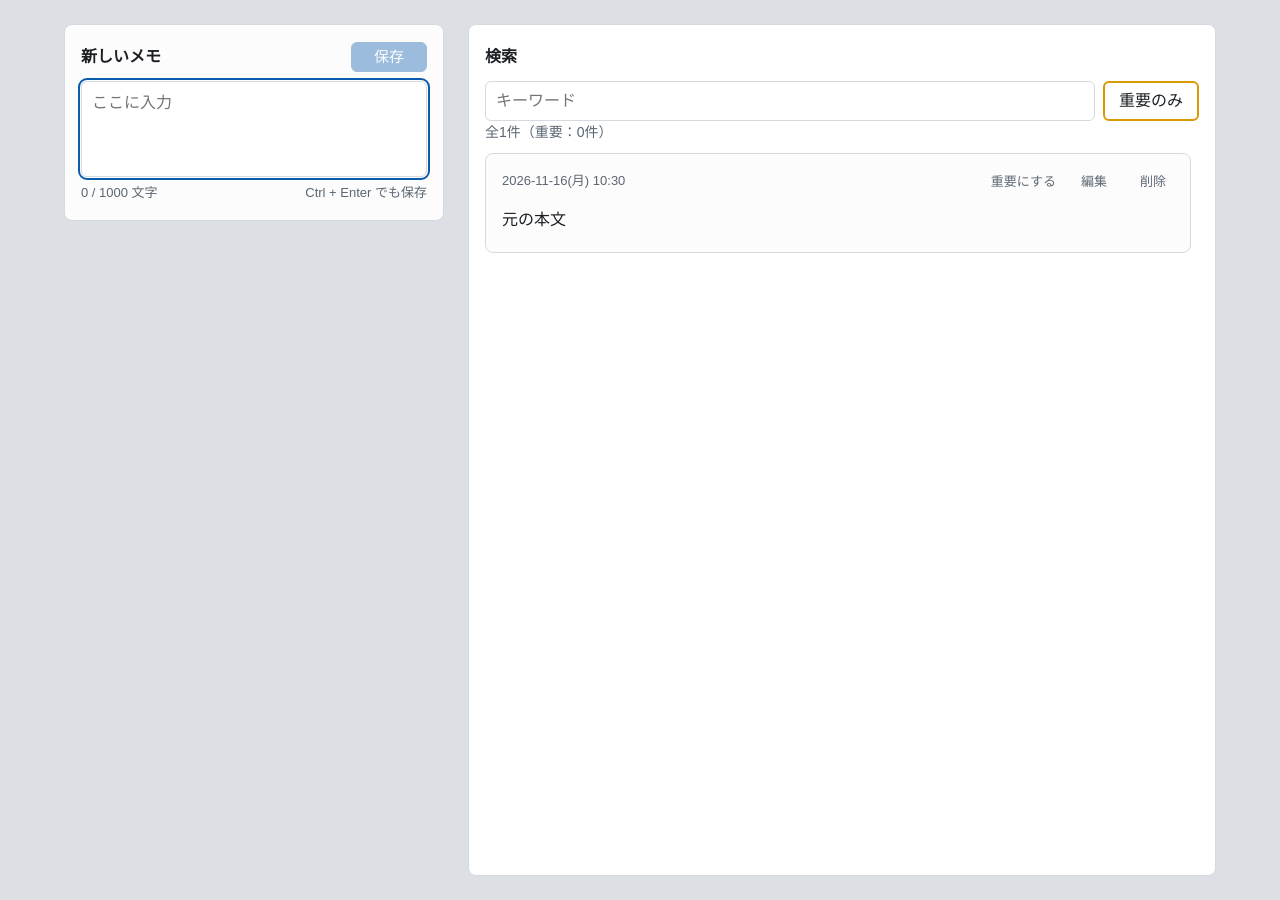
Test case: 編集（F4） › 保存に失敗したら、メッセージを出し、直していた文章は残して編集を続けられる
Expected: the text "元の本文" is shown, [502,211,566,228]
Step 1. Click the button "編集" → (1094, 182), box [1070,169,1118,195]
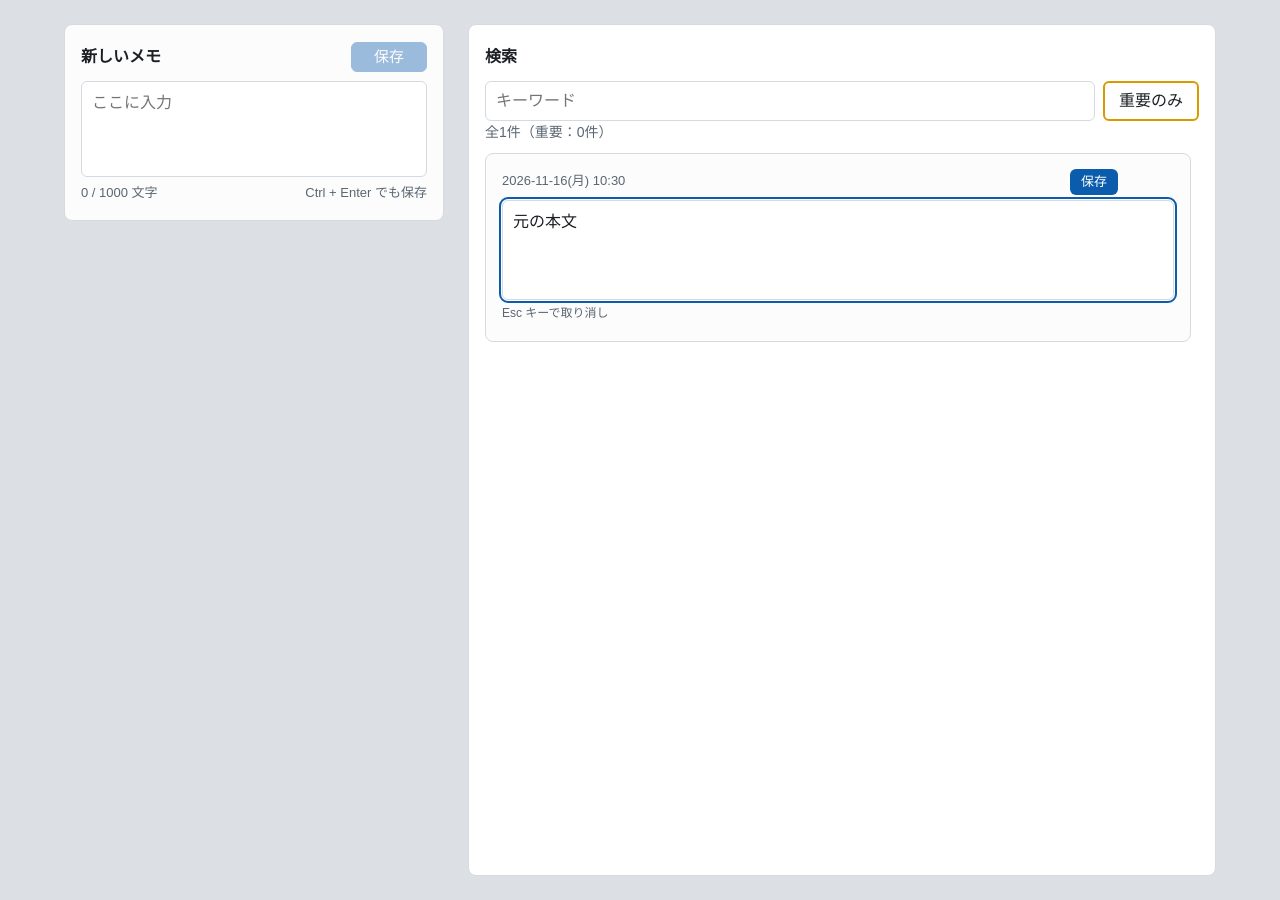
Step 2. Type "（直した）" into the text box named "メモの本文を編集" → (838, 250), box [502,200,1174,300]
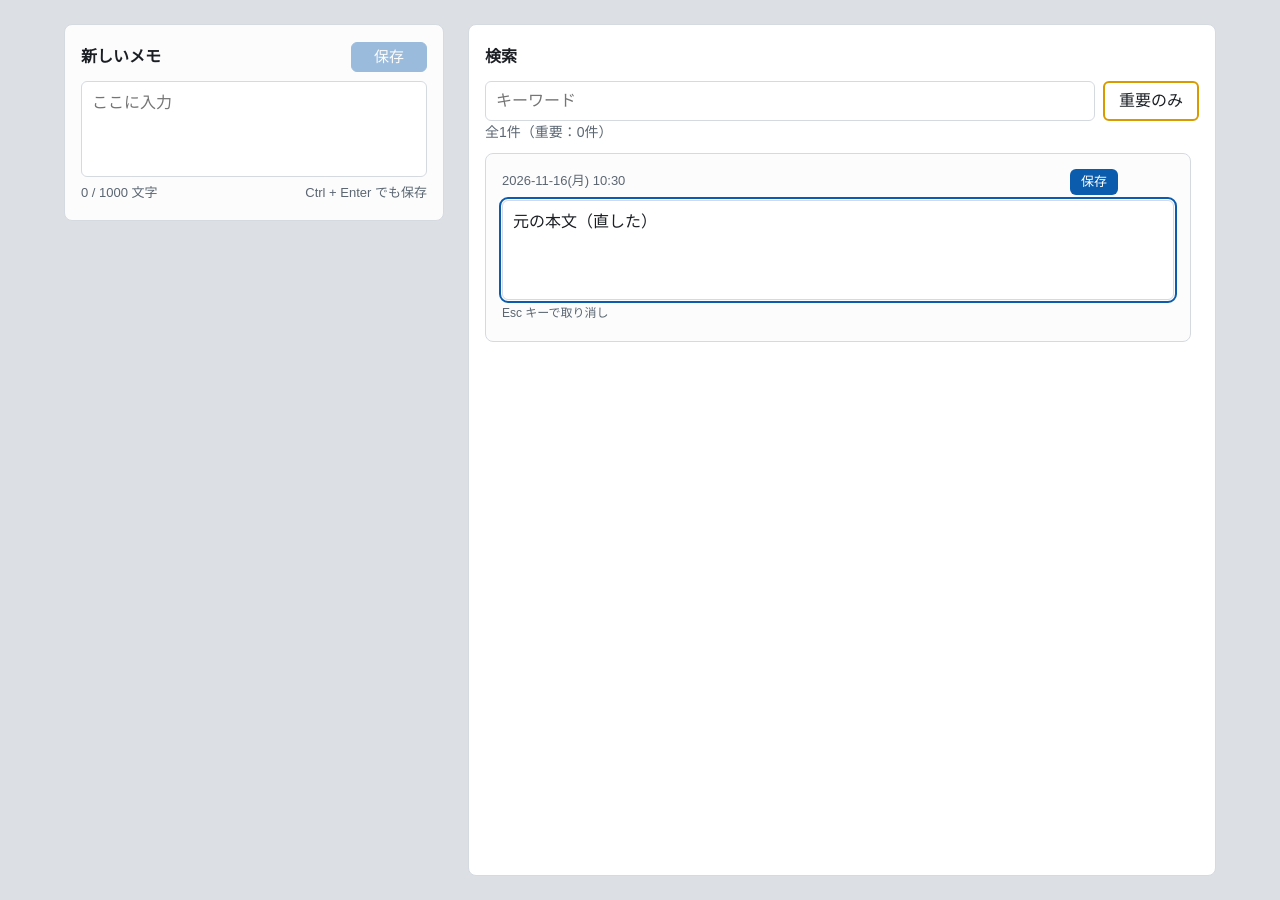
Step 3. Click the button "保存" in the row of "2026-11-16(月) 10:30" → (1094, 182), box [1070,169,1118,195]
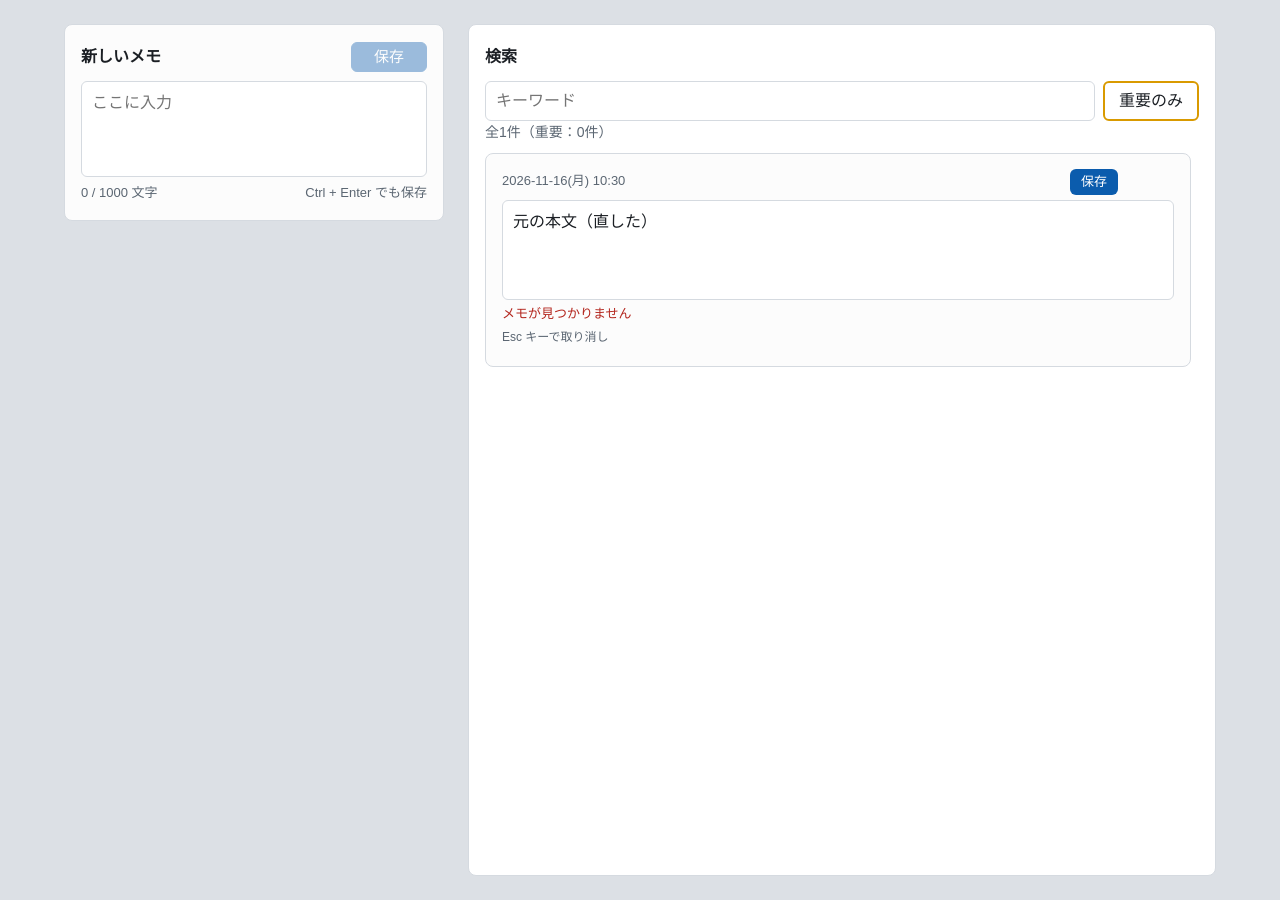
Expected: the text box named "メモの本文を編集" holds "元の本文（直した）", [502,200,1174,300]
Expected: the message reads "メモが見つかりません", [502,306,632,321]
